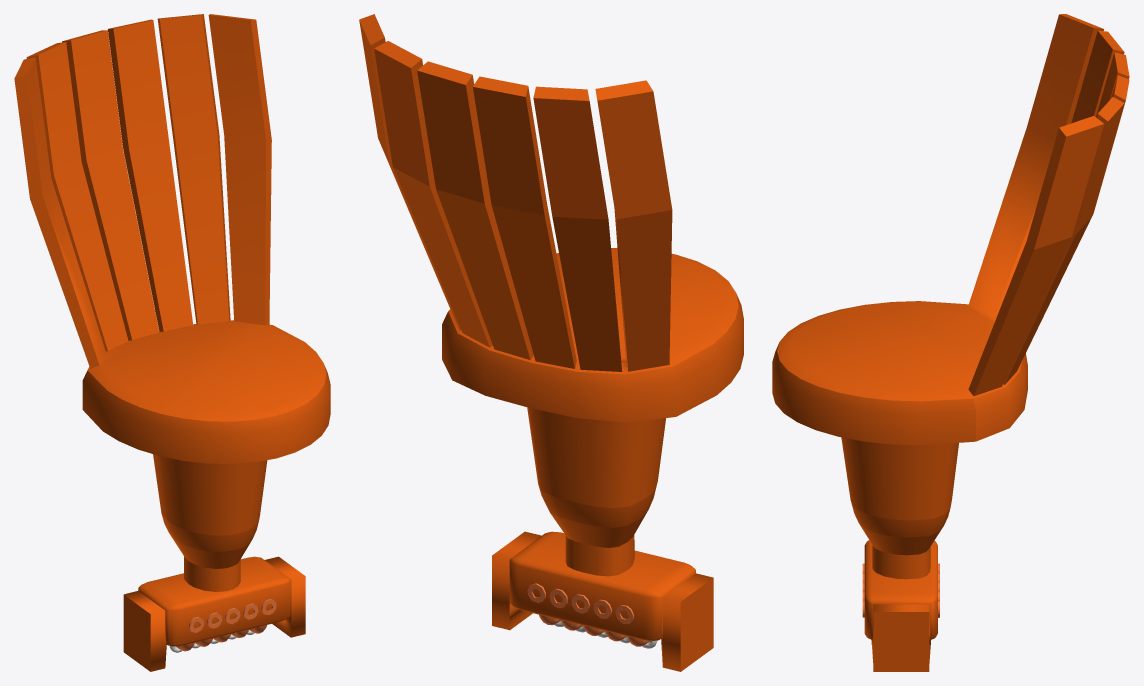
The model's file is chair17.fbx.
3 views of the same model, side by side, from view 1: azimuth 30°, elevation 25°; view 2: azimuth 150°, elevation 25°; view 3: azimuth 270°, elevation 25° (orthographic). The views are drawn at different scales.
Parts seen in each view (by area): view 1: Chair17; view 2: Chair17; view 3: Chair17.
Part boxes in pixels (<box>): Chair17: <box>14,14,330,671</box>; Chair17: <box>359,14,743,671</box>; Chair17: <box>772,14,1129,671</box>.
Bounding box in the file's own units: 48.09 × 103 × 59.15.
